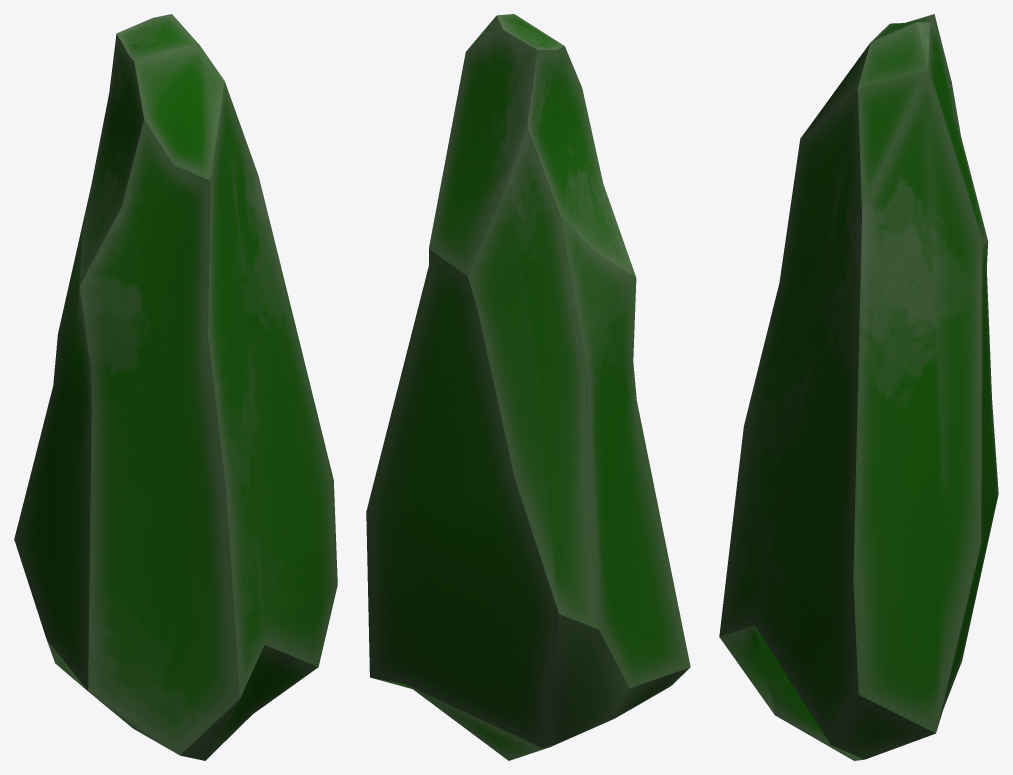
File: Rock_05_01.fbx
3 views of the same model, side by side, from view 1: azimuth 30°, elevation 25°; view 2: azimuth 150°, elevation 25°; view 3: azimuth 270°, elevation 25° (orthographic). The views are drawn at different scales.
Visible parts, largest first — view 1: Rock_05_01; view 2: Rock_05_01; view 3: Rock_05_01.
Boxes of the visible parts, left/top/right/bottom form: Rock_05_01: left=14, top=14, right=337, bottom=760; Rock_05_01: left=366, top=14, right=690, bottom=760; Rock_05_01: left=719, top=14, right=998, bottom=760.
Bounding box in the file's own units: 0.7234 × 1.77 × 0.628.
